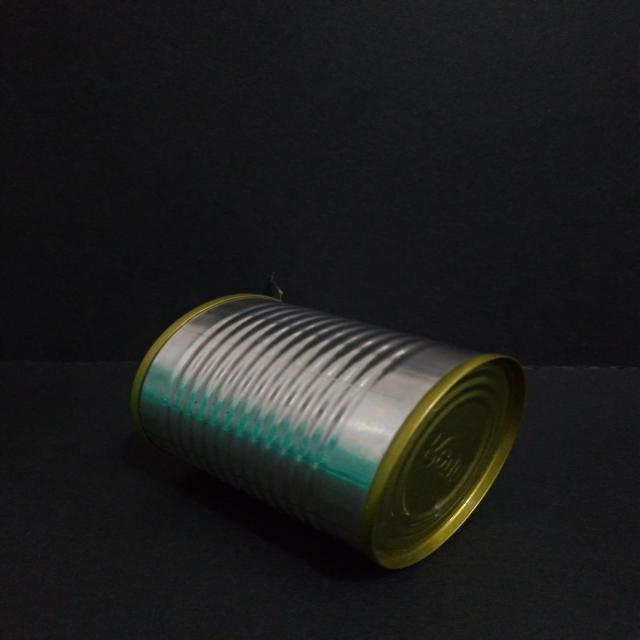metal: (123, 285, 527, 572)
